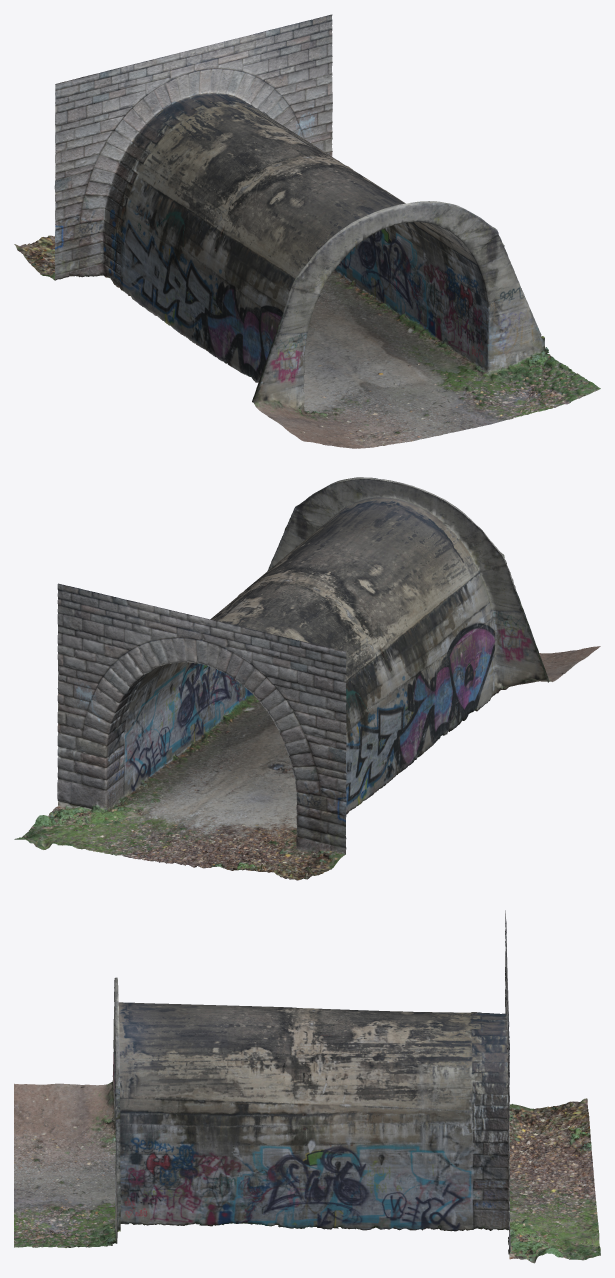
Rendered from highway_tunnel_at_ostopovice.glb.
The picture shows the model from 3 angles, top to bottom: view 1: azimuth 30°, elevation 25°; view 2: azimuth 150°, elevation 25°; view 3: azimuth 270°, elevation 25°; orthographic projection. The views are drawn at different scales.
Visible parts, largest first — view 1: most_brno_tunel; view 2: most_brno_tunel; view 3: most_brno_tunel.
Boxes of the visible parts, x1,y1,x2,y2 form: most_brno_tunel: (14,14,600,448); most_brno_tunel: (14,477,600,880); most_brno_tunel: (14,910,600,1263).
Size of the model in its own units: 9.36 by 6.66 by 16.13.
Materials: 1 (1 with a texture image).
